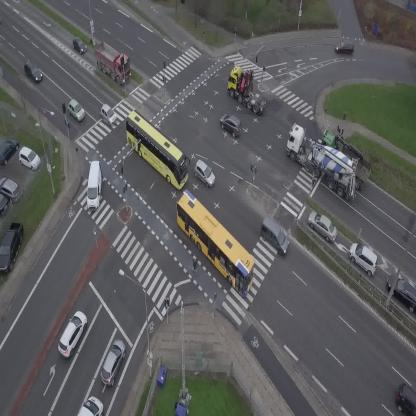bicycle: (189, 257, 199, 279)
bus: (161, 188, 268, 298), (113, 109, 200, 192)
car: (53, 308, 92, 359), (253, 215, 296, 257), (97, 337, 130, 388), (344, 239, 385, 278), (303, 207, 343, 244), (189, 158, 220, 189), (215, 109, 247, 139), (396, 384, 416, 416), (63, 98, 87, 124), (96, 102, 120, 127), (21, 59, 44, 84), (68, 34, 89, 57), (335, 40, 355, 55)
lorry: (273, 121, 374, 205), (316, 124, 379, 191), (219, 60, 279, 116), (86, 36, 140, 87), (85, 160, 104, 211), (78, 396, 103, 416)
